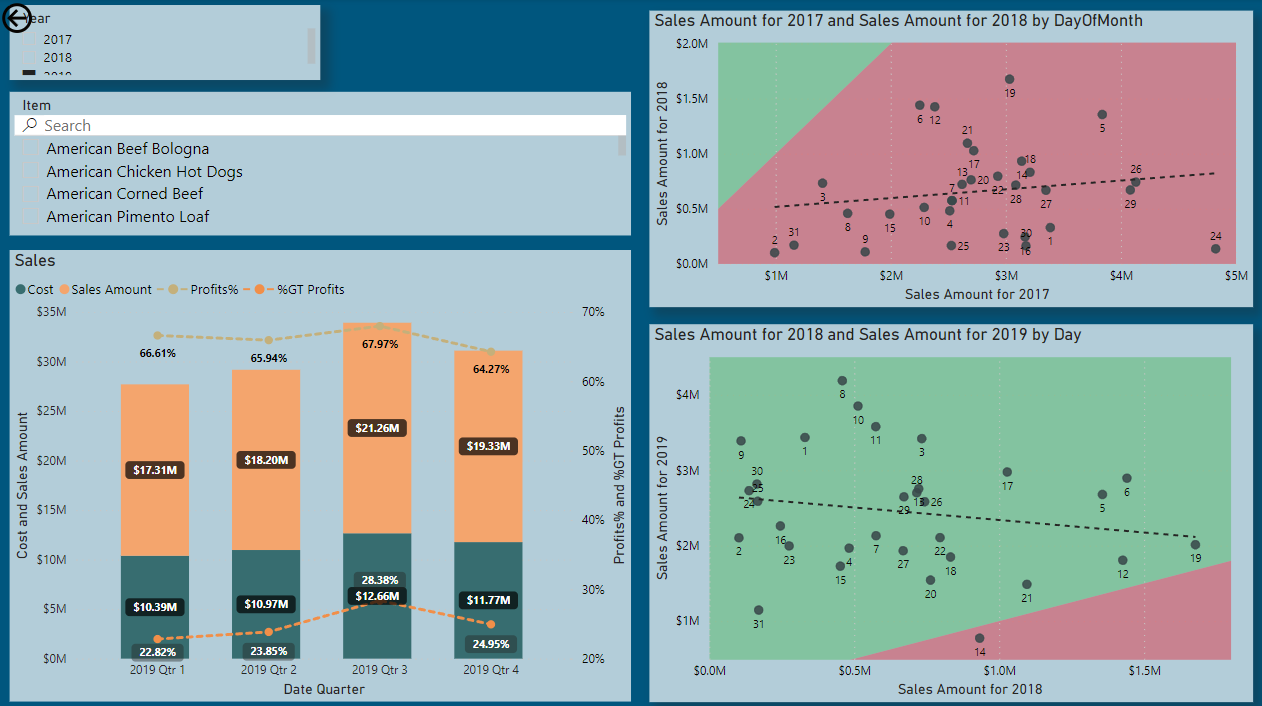

The dashboard page shown, as its layout file describes it:
{"tool":"powerbi","page":{"name":"Sales Insights","canvas":[1280,720],"ordinal":1},"visuals":[{"type":"scatterChart","fields":{"Category":["Date.Date.Variation.Date Hierarchy.Day"],"X":["FilteredEval(Imp Measures.Sales, [{Condition(expr)}])"],"Y":["FilteredEval(Imp Measures.Sales, [{Condition(expr)}])1"]},"box":[658.5,329.2,609,381.1],"z":0},{"type":"scatterChart","fields":{"Category":["Date.DayOfMonth"],"X":["FilteredEval(Imp Measures.Sales, [{Condition(expr)}])"],"Y":["FilteredEval(Imp Measures.Sales, [{Condition(expr)}])1"]},"box":[658.5,13.3,609,299.1],"z":1000},{"type":"lineStackedColumnComboChart","title":"Sales ","fields":{"Y":["Imp Measures.Cost","Imp Measures.Sales"],"Category":["Date.Date.Variation.Date Hierarchy.Year","Date.Date.Variation.Date Hierarchy.Quarter","Date.Date.Variation.Date Hierarchy.Month","Date.Date.Variation.Date Hierarchy.Day"],"Y2":["Imp Measures.Profits%","Divide(Imp Measures.Profits, ScopedEval(Imp Measures.Profits, []))"]},"box":[13.3,254.5,627.1,455.9],"z":2000},{"type":"slicer","fields":{"Values":["Date.Year"]},"box":[13.3,7.2,313.6,76],"z":3000},{"type":"slicer","fields":{"Values":["Sales_Details.Item"]},"box":[13.3,95.3,627.1,144.7],"z":4000},{"type":"actionButton","box":[0,0,100,40],"z":5000}]}

Visuals, with their boxes in screenshot pixels (x1, y1, x2, y2), scaled from the page's 1280x720 canvas onto the 1262x706 screenshot:
scatterChart - Date.Date.Variation.Date Hierarchy.Day x FilteredEval(Imp Measures.Sales, [{Condition(expr)}]): <region>649, 323, 1250, 696</region>
scatterChart - Date.DayOfMonth x FilteredEval(Imp Measures.Sales, [{Condition(expr)}]): <region>649, 13, 1250, 306</region>
"Sales " lineStackedColumnComboChart: <region>13, 250, 631, 697</region>
slicer - Date.Year: <region>13, 7, 322, 82</region>
slicer - Sales_Details.Item: <region>13, 93, 631, 235</region>
actionButton: <region>0, 0, 99, 39</region>
